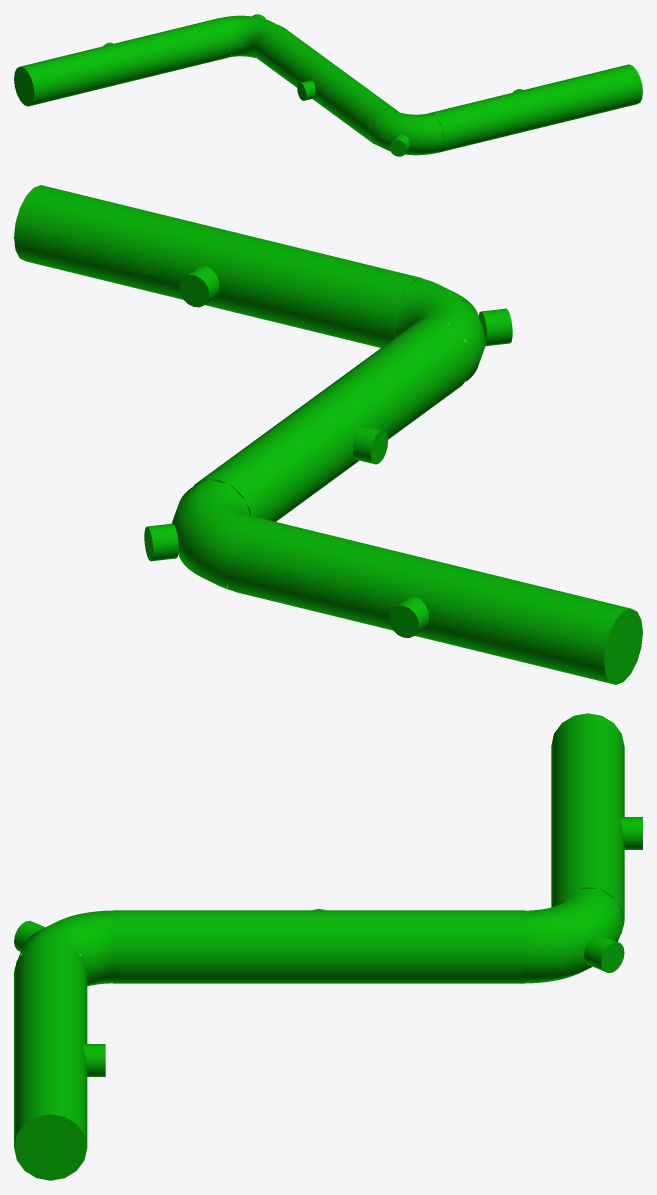
Rendered from dpmsModelForRIMS.gltf.
3 views of the same model, one above another, from view 1: azimuth 30°, elevation 25°; view 2: azimuth 150°, elevation 25°; view 3: azimuth 270°, elevation 25° (orthographic). The views are drawn at different scales.
Visible parts, largest first — view 1: Part 10 of /1237-TEST-AS03, Part 5 of /1237-TEST-AS03, Part 8 of /1237-TEST-AS03, Part 7 of /1237-TEST-AS03, Part 9 of /1237-TEST-AS03, Part 11 of /1237-TEST-AS03, Part 3 of /1237-TEST-AS03; view 2: Part 10 of /1237-TEST-AS03, Part 5 of /1237-TEST-AS03, Part 8 of /1237-TEST-AS03, Part 9 of /1237-TEST-AS03, Part 7 of /1237-TEST-AS03, Part 2 of /1237-TEST-AS03, Part 4 of /1237-TEST-AS03, Part 6 of /1237-TEST-AS03, Part 3 of /1237-TEST-AS03, Part 11 of /1237-TEST-AS03; view 3: Part 8 of /1237-TEST-AS03, Part 5 of /1237-TEST-AS03, Part 10 of /1237-TEST-AS03, Part 9 of /1237-TEST-AS03, Part 7 of /1237-TEST-AS03, Part 6 of /1237-TEST-AS03, Part 2 of /1237-TEST-AS03, Part 4 of /1237-TEST-AS03.
Part boxes in pixels (bbox=[...]): Part 10 of /1237-TEST-AS03: bbox=[14, 18, 233, 106]; Part 5 of /1237-TEST-AS03: bbox=[429, 64, 642, 152]; Part 8 of /1237-TEST-AS03: bbox=[253, 24, 398, 144]; Part 7 of /1237-TEST-AS03: bbox=[368, 108, 443, 155]; Part 9 of /1237-TEST-AS03: bbox=[220, 15, 276, 58]; Part 11 of /1237-TEST-AS03: bbox=[389, 134, 410, 156]; Part 3 of /1237-TEST-AS03: bbox=[297, 80, 315, 100]; Part 10 of /1237-TEST-AS03: bbox=[223, 515, 642, 684]; Part 5 of /1237-TEST-AS03: bbox=[14, 185, 429, 347]; Part 8 of /1237-TEST-AS03: bbox=[193, 318, 471, 545]; Part 9 of /1237-TEST-AS03: bbox=[171, 479, 250, 590]; Part 7 of /1237-TEST-AS03: bbox=[394, 278, 486, 381]; Part 2 of /1237-TEST-AS03: bbox=[179, 266, 219, 307]; Part 4 of /1237-TEST-AS03: bbox=[388, 597, 428, 637]; Part 6 of /1237-TEST-AS03: bbox=[144, 523, 178, 561]; Part 3 of /1237-TEST-AS03: bbox=[353, 425, 387, 464]; Part 11 of /1237-TEST-AS03: bbox=[478, 308, 512, 346]; Part 8 of /1237-TEST-AS03: bbox=[113, 910, 524, 983]; Part 5 of /1237-TEST-AS03: bbox=[14, 940, 87, 1180]; Part 10 of /1237-TEST-AS03: bbox=[551, 713, 624, 933]; Part 9 of /1237-TEST-AS03: bbox=[525, 889, 624, 983]; Part 7 of /1237-TEST-AS03: bbox=[14, 910, 113, 986]; Part 6 of /1237-TEST-AS03: bbox=[584, 934, 624, 973]; Part 2 of /1237-TEST-AS03: bbox=[83, 1044, 105, 1076]; Part 4 of /1237-TEST-AS03: bbox=[620, 817, 642, 849].
Bounding box in the file's own units: 1.15 × 0.0891 × 0.7639.
